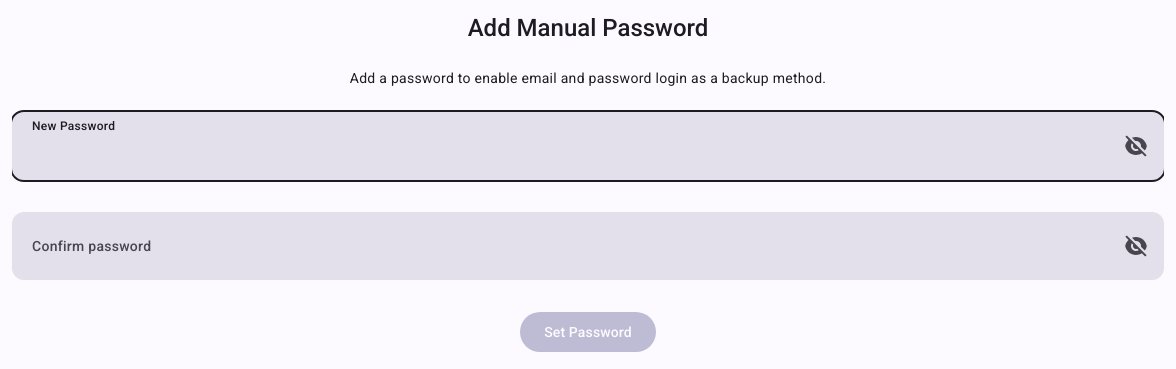
Test: SetPasswordForm Component › shows error when passwords do not match
The image size is (1176, 369).
Type "SecurePass123" into the password field labelled "New Password" at point(588, 146), box [12,112,1164,180]
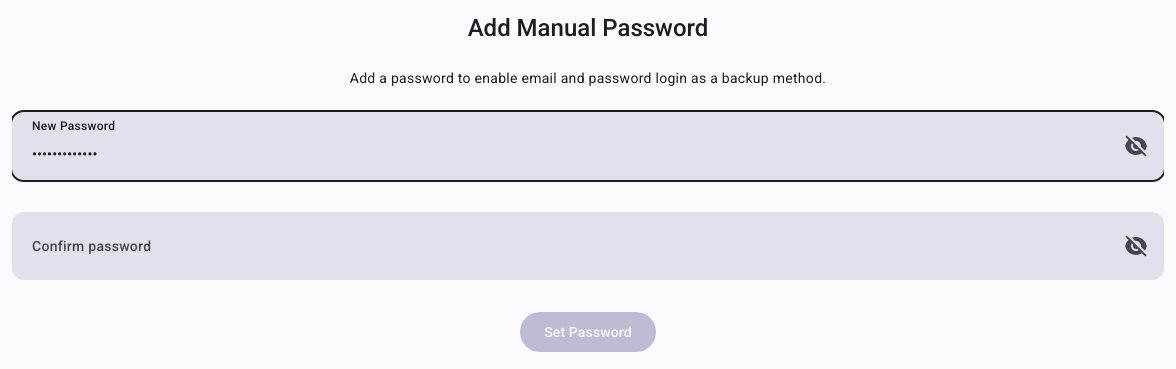
Type "DifferentPass" into the password field labelled "Confirm password" at point(588, 246), box [12,212,1164,280]
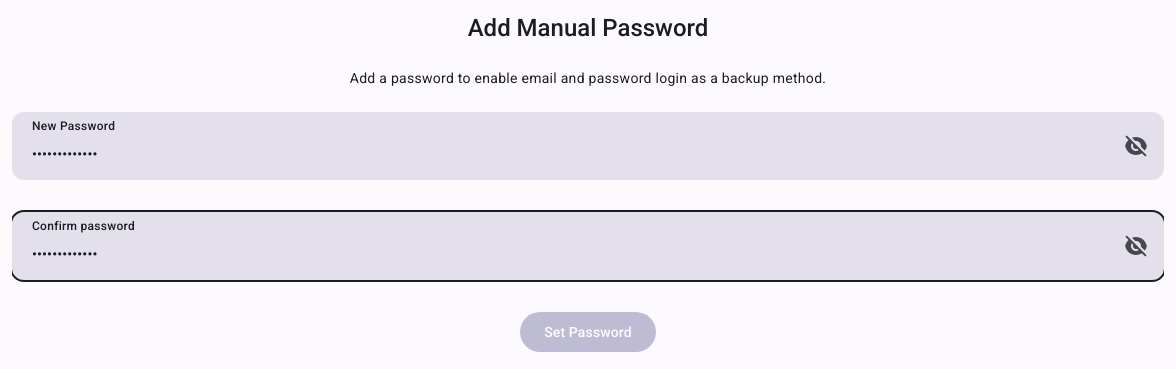
Click the button "Set Password" at point(588, 332), box [520,312,656,352]
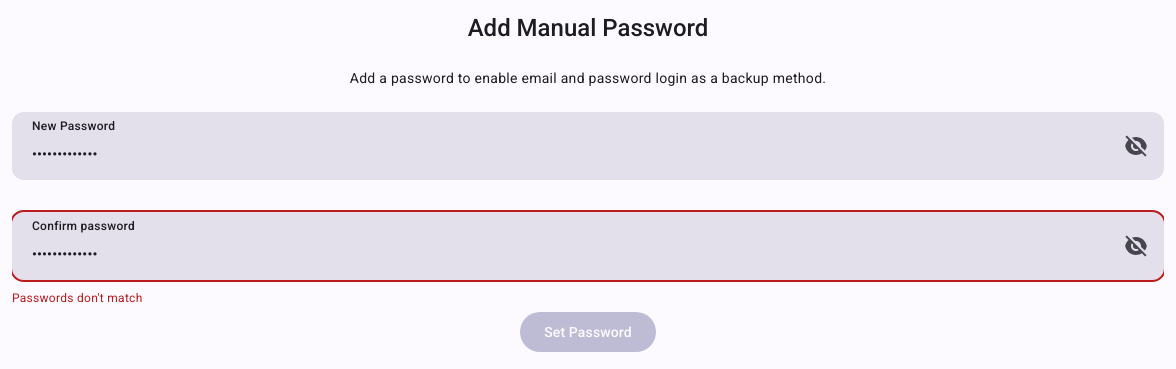
Expected: the text "Passwords don't match" is shown, [12,288,143,308]
